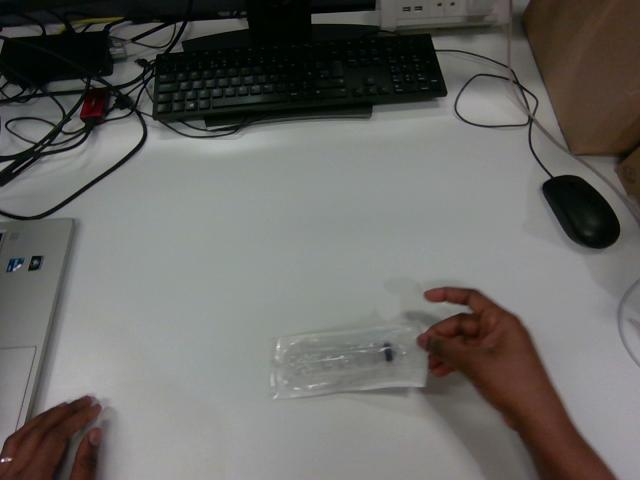syringe: (271, 322, 426, 398)
